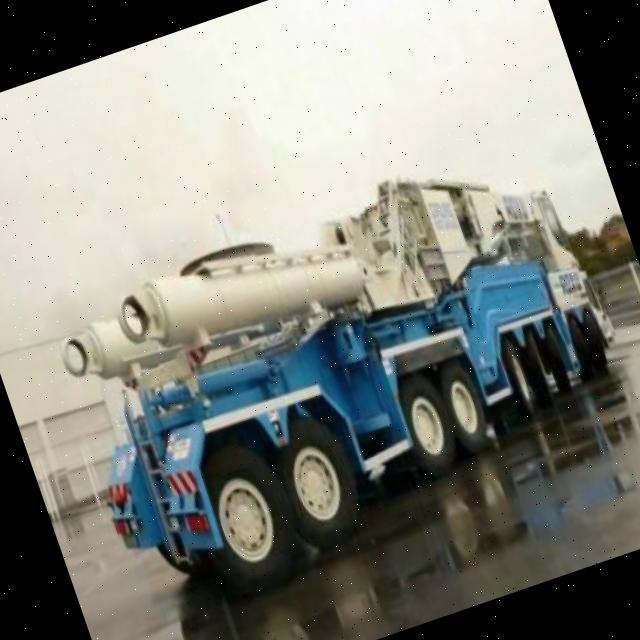Mobile Crane: (36, 125, 640, 625)
